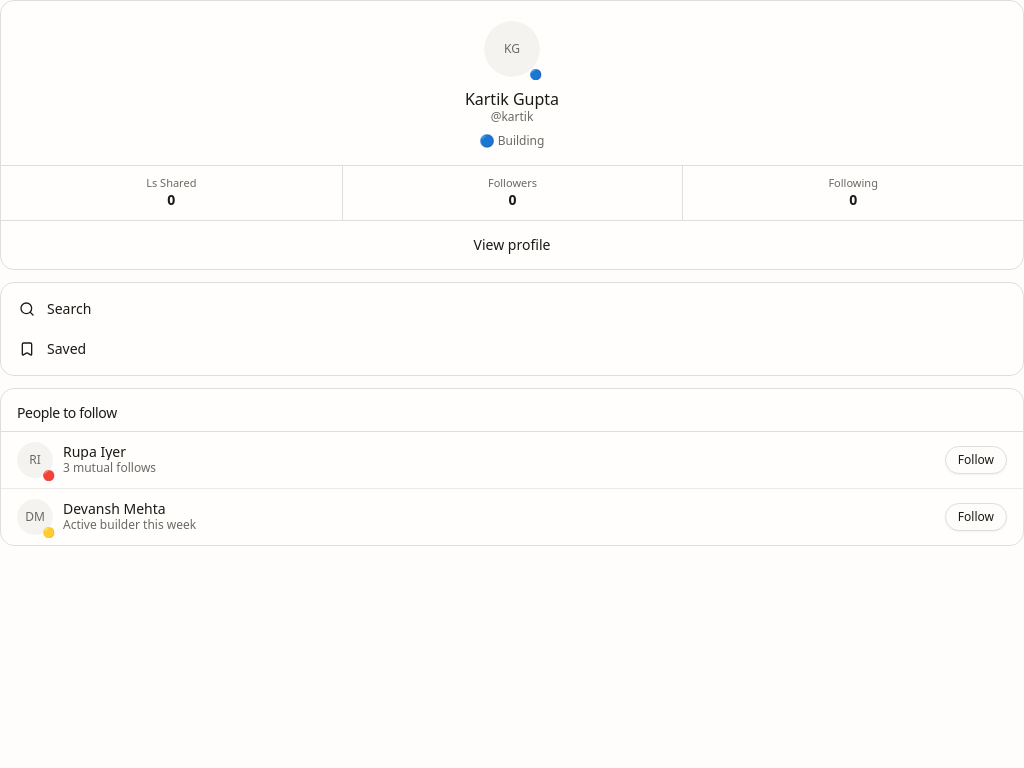
Scenario: FeedSidebarLeft - people to follow › does not resurrect a builder you already follow when a concurrent follow fails
Both rows leave optimistically, in that order, before either write settles.
Click the button "Follow" in the row of "3 mutual follows" at [976, 460], box [945,446,1007,474]
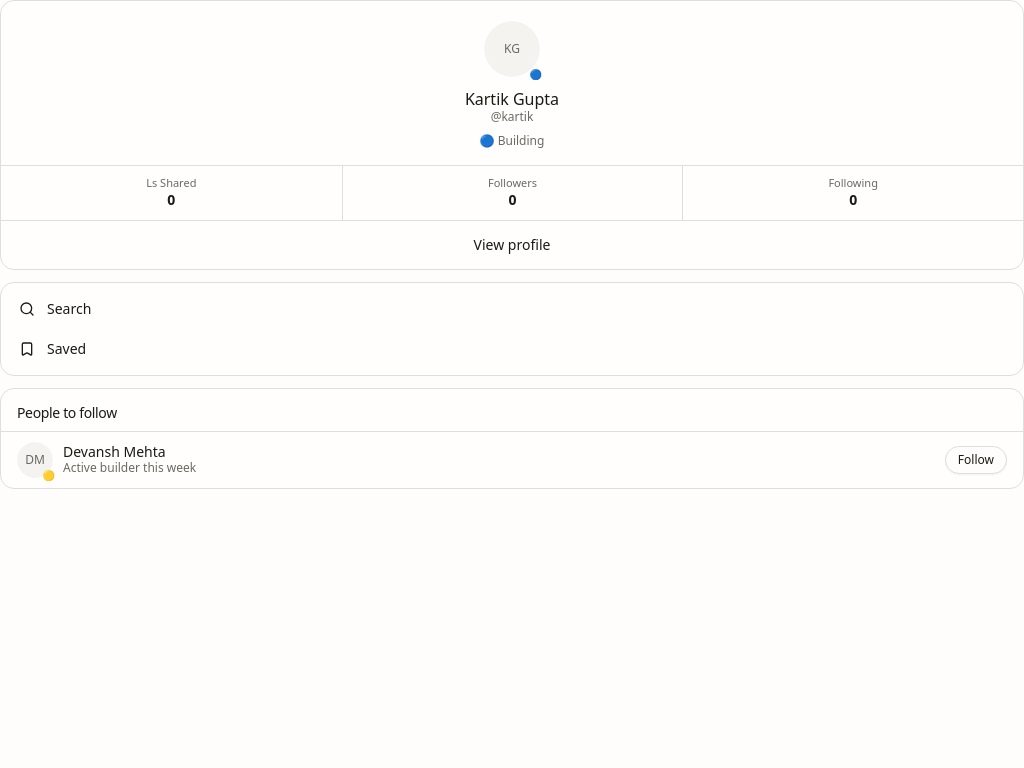
Click the button "Follow" at [976, 460], box [945,446,1007,474]
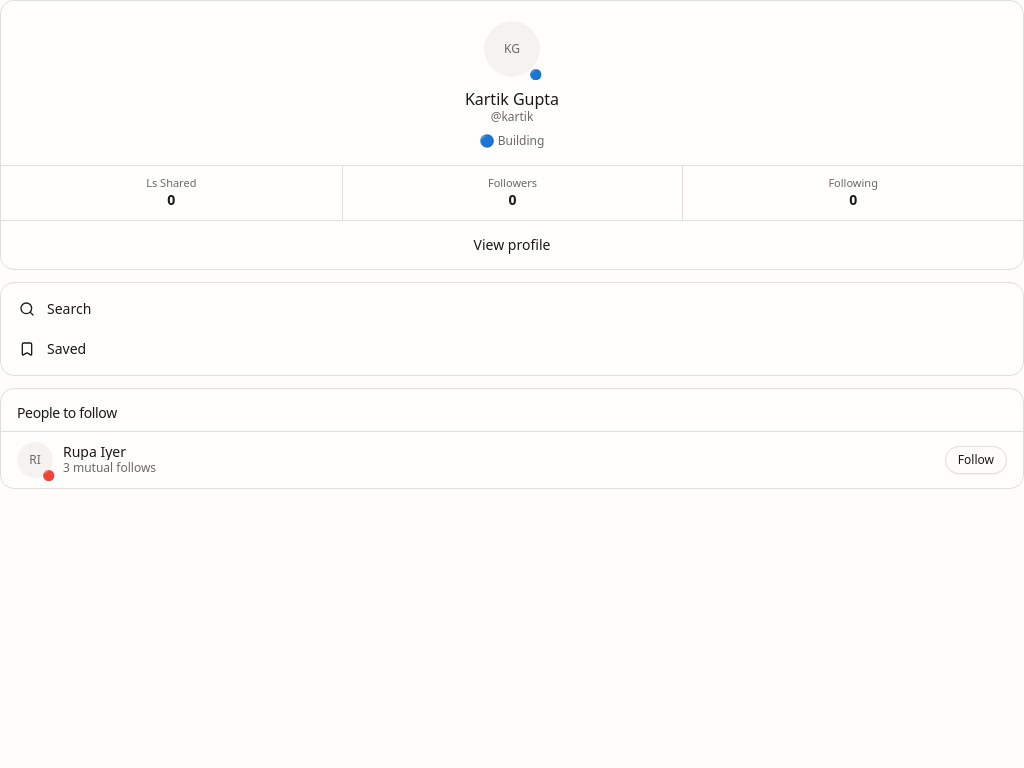
Result: the link "Rupa Iyer" is shown at [63,442,126,461]
Result: the link "Devansh Mehta" is gone
